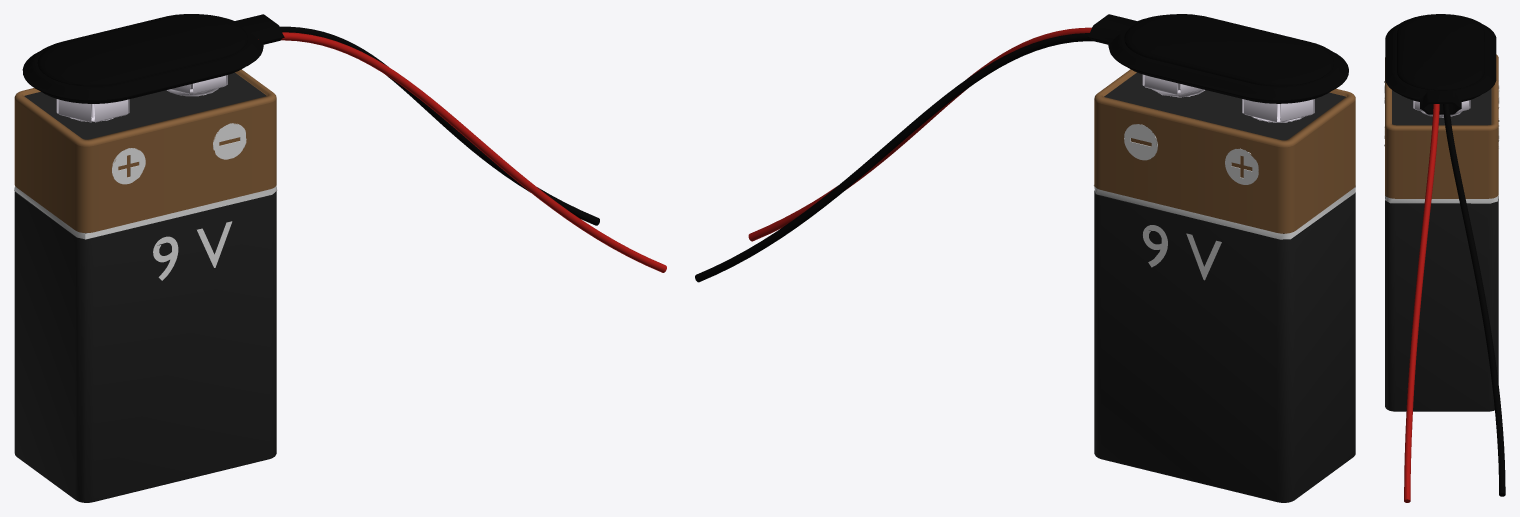
The model's file is bateria.fbx.
3 views of the same model, side by side, from view 1: azimuth 30°, elevation 25°; view 2: azimuth 150°, elevation 25°; view 3: azimuth 270°, elevation 25° (orthographic). The views are drawn at different scales.
Parts seen in each view (by area): view 1: bateria, Material-material.003, Material-material.002; view 2: bateria, Material-material.002, Material-material.003; view 3: bateria, Material-material.003, Material-material.002.
Part boxes in pixels (x1=…): bateria: x1=14, y1=14, x2=284, y2=502; Material-material.003: x1=258, y1=32, x2=666, y2=272; Material-material.002: x1=280, y1=26, x2=599, y2=225; bateria: x1=1087, y1=14, x2=1355, y2=502; Material-material.002: x1=695, y1=33, x2=1092, y2=282; Material-material.003: x1=748, y1=27, x2=1091, y2=241; bateria: x1=1384, y1=14, x2=1505, y2=502; Material-material.003: x1=1404, y1=104, x2=1439, y2=500; Material-material.002: x1=1443, y1=104, x2=1505, y2=494.
Bounding box in the file's own units: 51.7 × 33.35 × 11.23.
